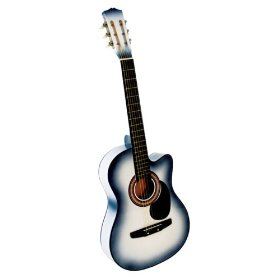guitar: (96, 4, 190, 272)
